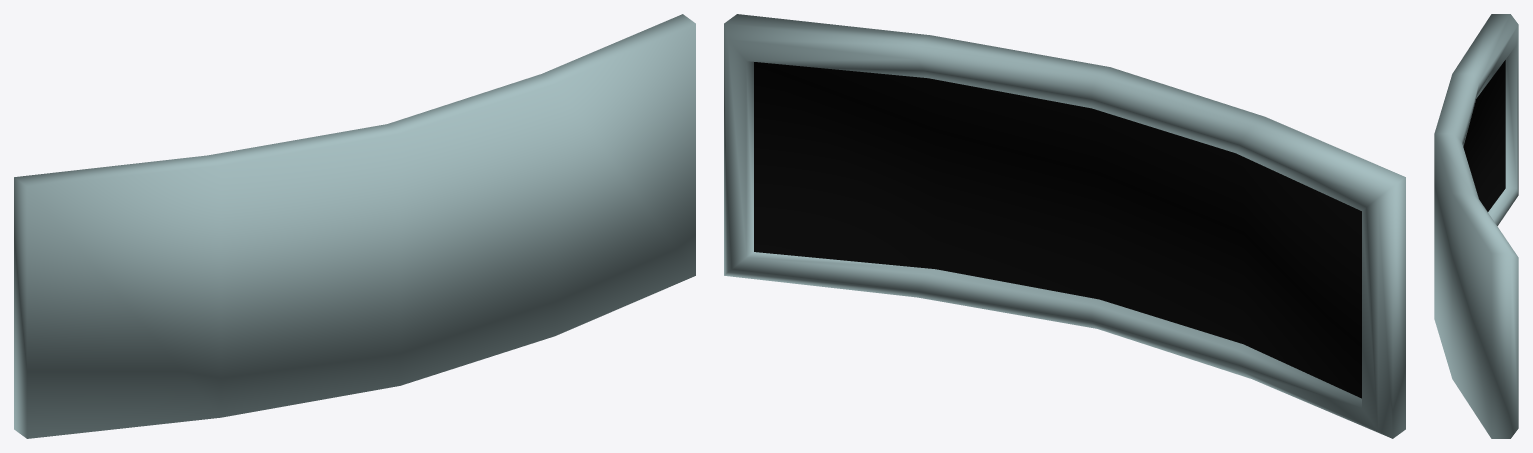
File: LG_round_tv.fbx
3 views of the same model, side by side, from view 1: azimuth 30°, elevation 25°; view 2: azimuth 150°, elevation 25°; view 3: azimuth 270°, elevation 25° (orthographic). The views are drawn at different scales.
Parts seen in each view (by area): view 1: Cube.006; view 2: Cube.006; view 3: Cube.006.
Part boxes in pixels (x1,y1,x2,y2): Cube.006: (14, 14, 695, 438); Cube.006: (724, 14, 1405, 438); Cube.006: (1434, 14, 1518, 438).
Bounding box in the file's own units: 419 × 151 × 62.15.
